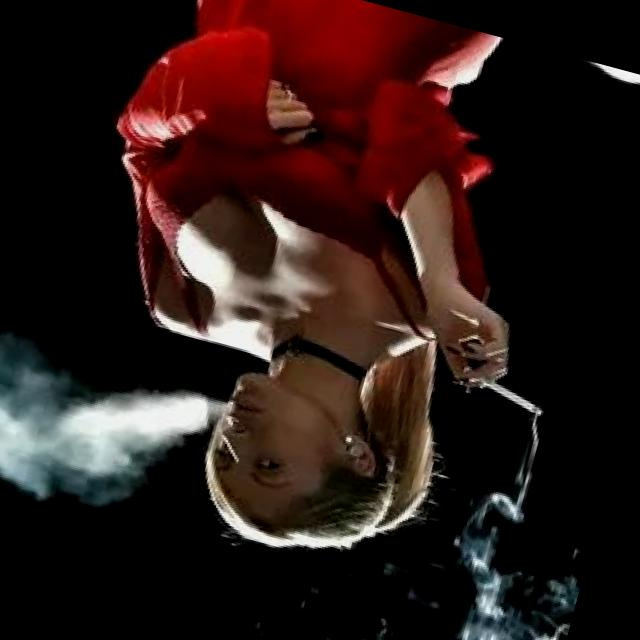cigarette: (468, 372, 554, 422)
